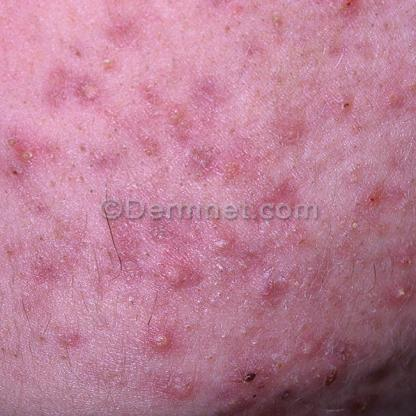Acne: (77, 81, 110, 109), (14, 142, 38, 169), (392, 281, 416, 305), (94, 53, 119, 74), (150, 326, 171, 350), (169, 101, 190, 124), (336, 97, 355, 118)
